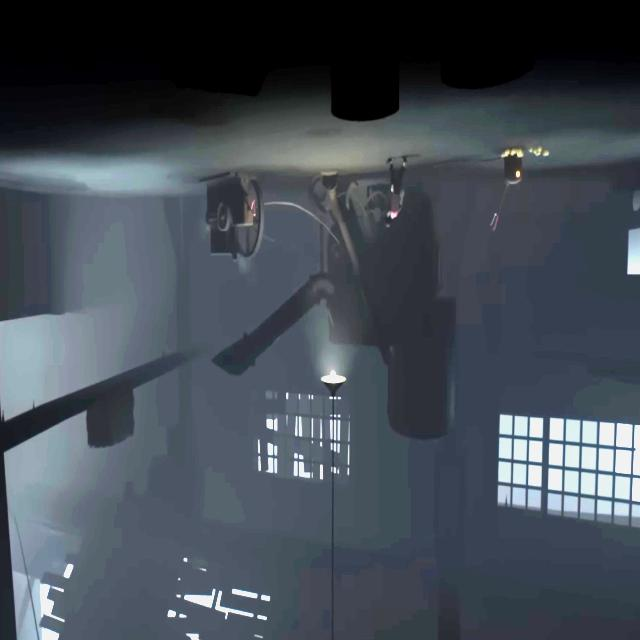boy: (386, 156, 408, 228)
